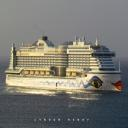cruises: (6, 27, 124, 95)
